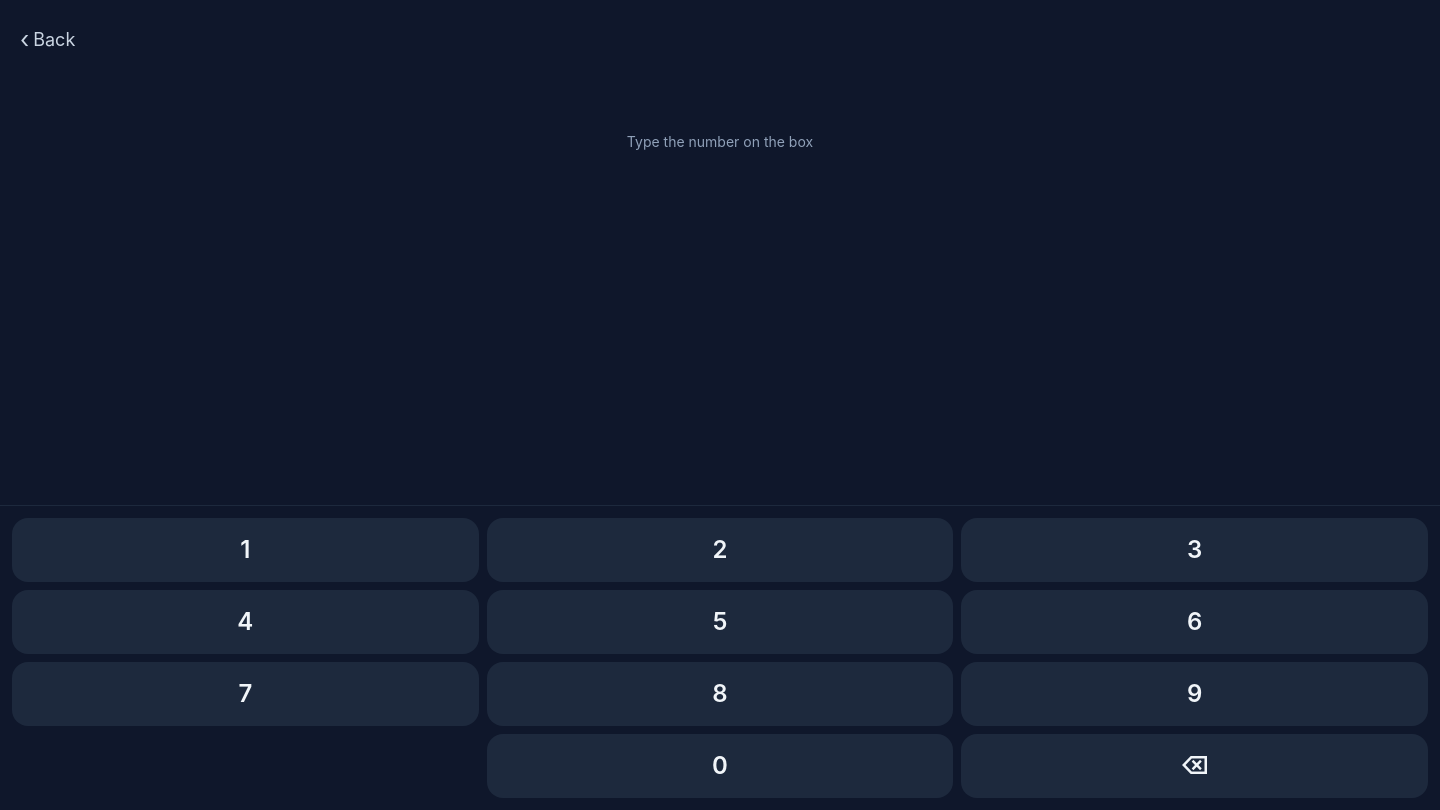
FindBox › reads a draft as a draft, never as filling
The image size is (1440, 810).
Click the button "4": {"x": 245, "y": 622} x1=12 y1=590 x2=479 y2=654
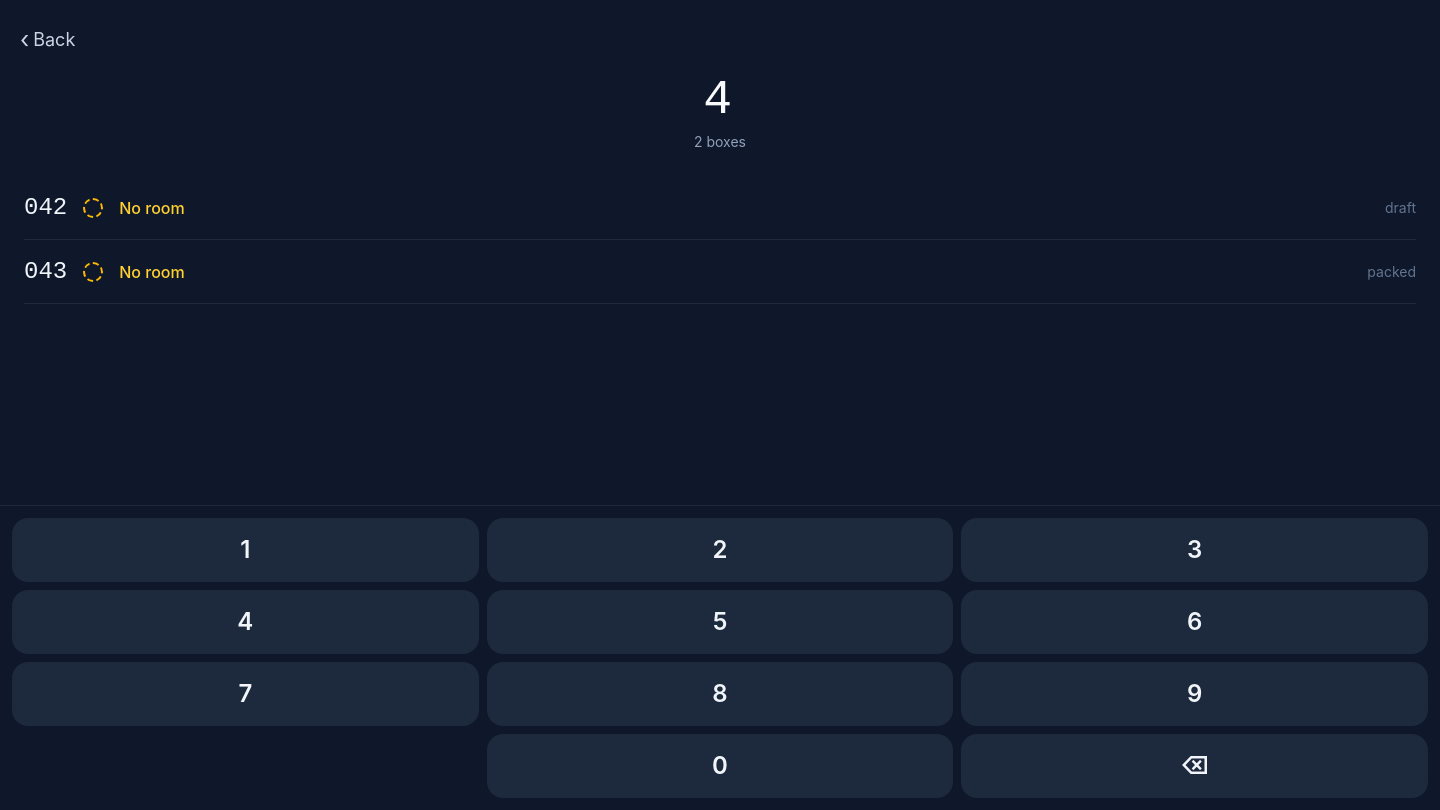
Expected: the text "draft" is shown, x1=1385 y1=198 x2=1416 y2=218
